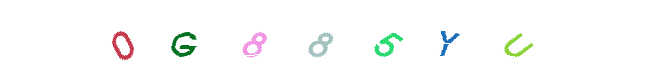0: (82, 0, 162, 80)
5: (301, 0, 381, 80)
8: (198, 0, 278, 80), (293, 0, 373, 80)
G: (143, 0, 223, 80)
U: (476, 0, 556, 80)
Y: (353, 0, 433, 80)
